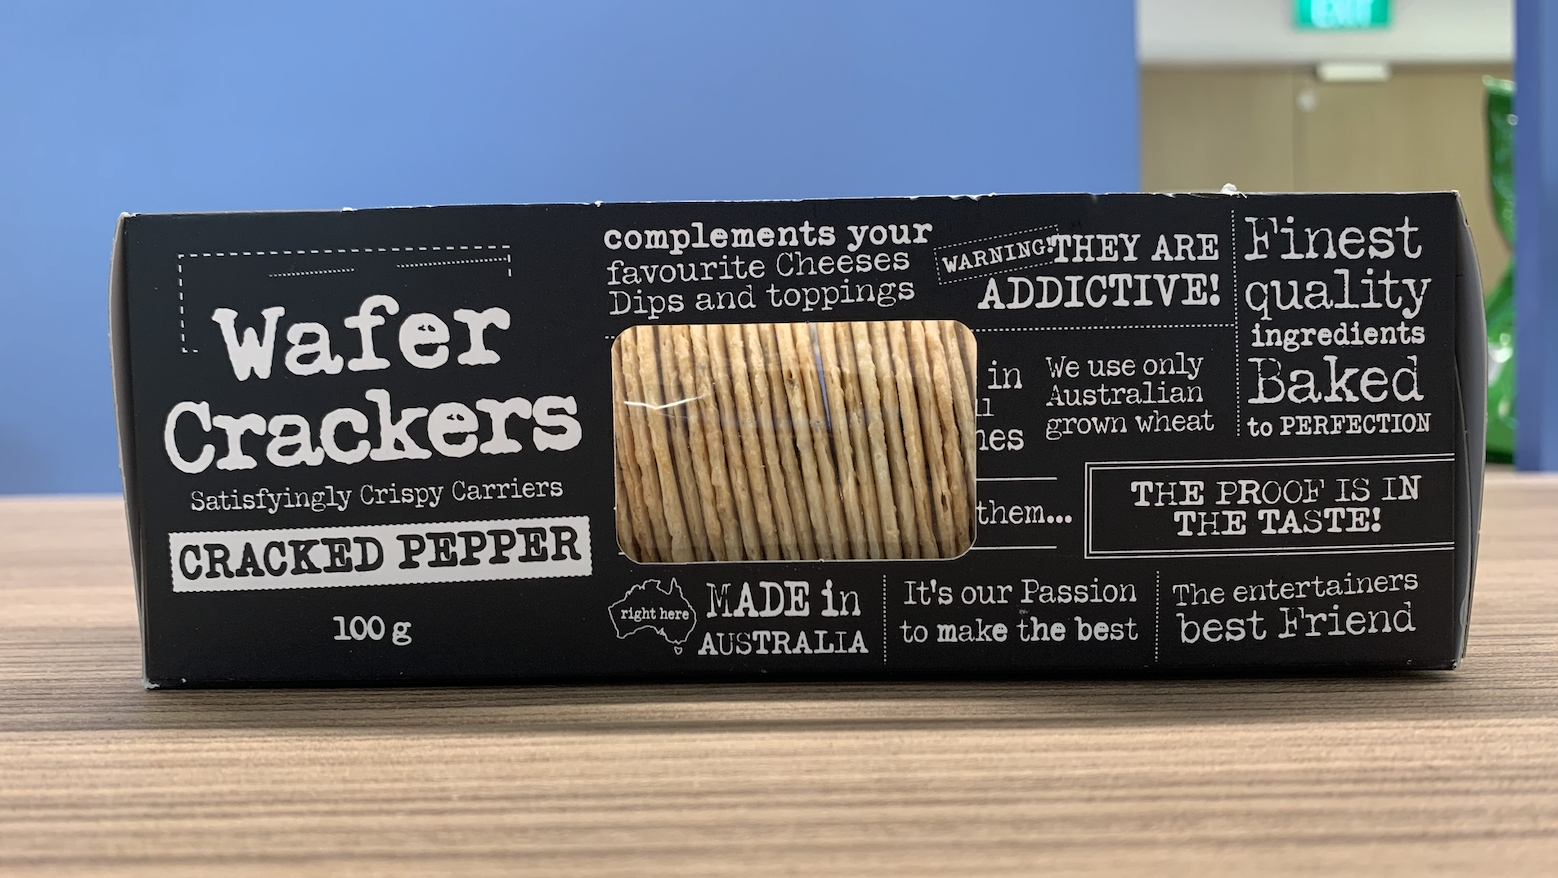crackers_150g: (153, 225, 1451, 652)
